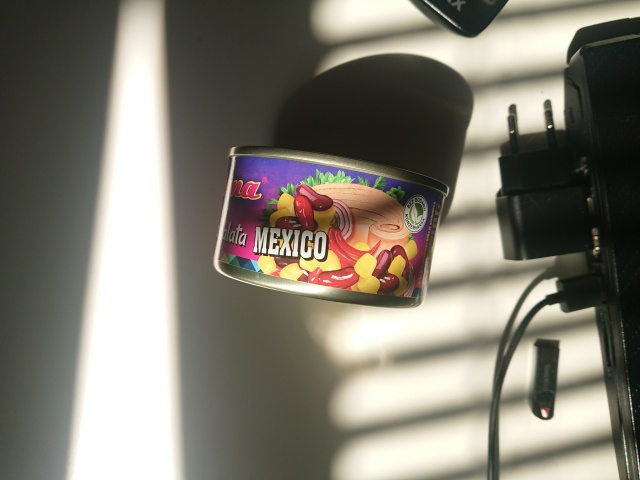Giana Tuna Salad Mexico 185g: (210, 141, 453, 311)
